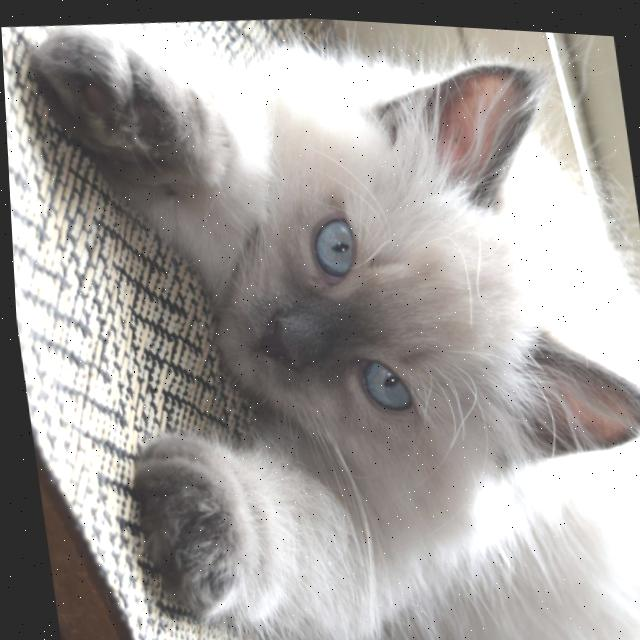Neva Masquerade: (17, 1, 640, 640)
